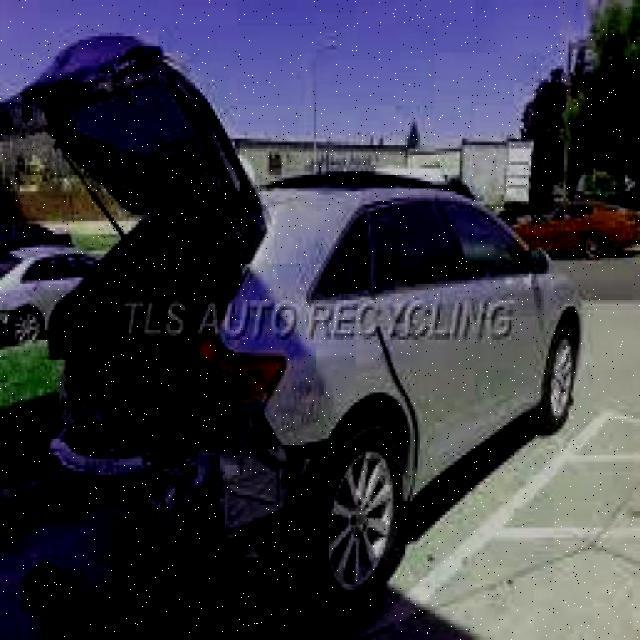car damage: (46, 280, 311, 551)
